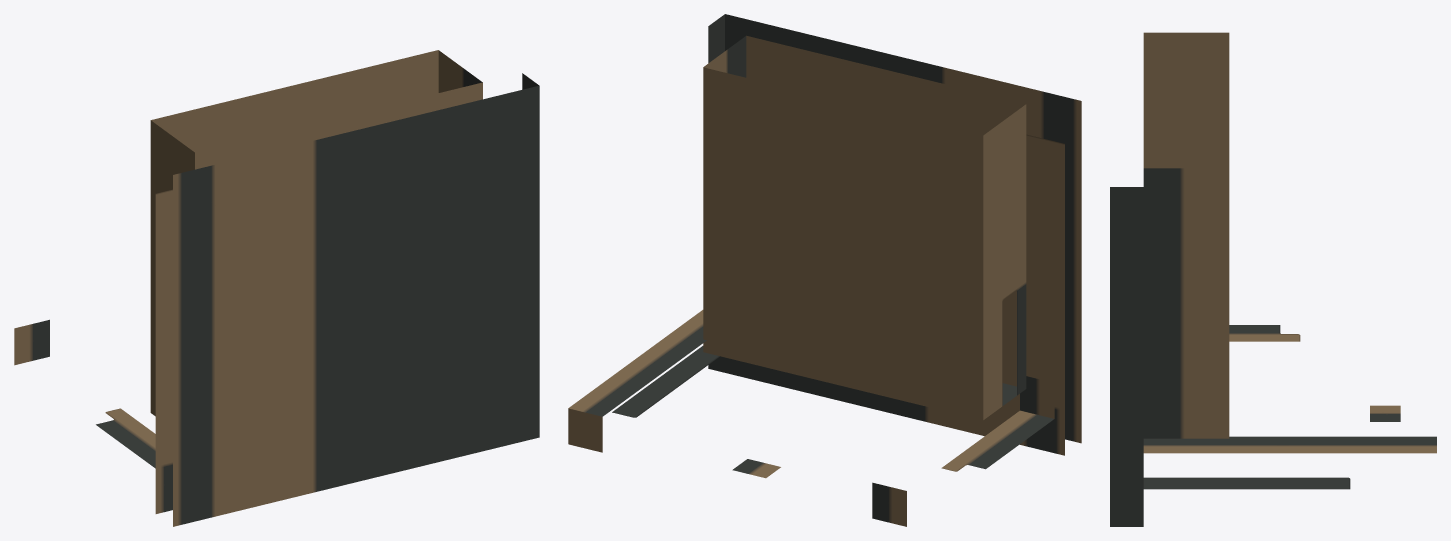
Rendered from section-5.obj.
The picture shows the model from 3 angles, left to right: view 1: azimuth 30°, elevation 25°; view 2: azimuth 150°, elevation 25°; view 3: azimuth 270°, elevation 25°; orthographic projection. The views are drawn at different scales.
Size of the model in its own units: 0.9591 by 0.88 by 0.7661.
